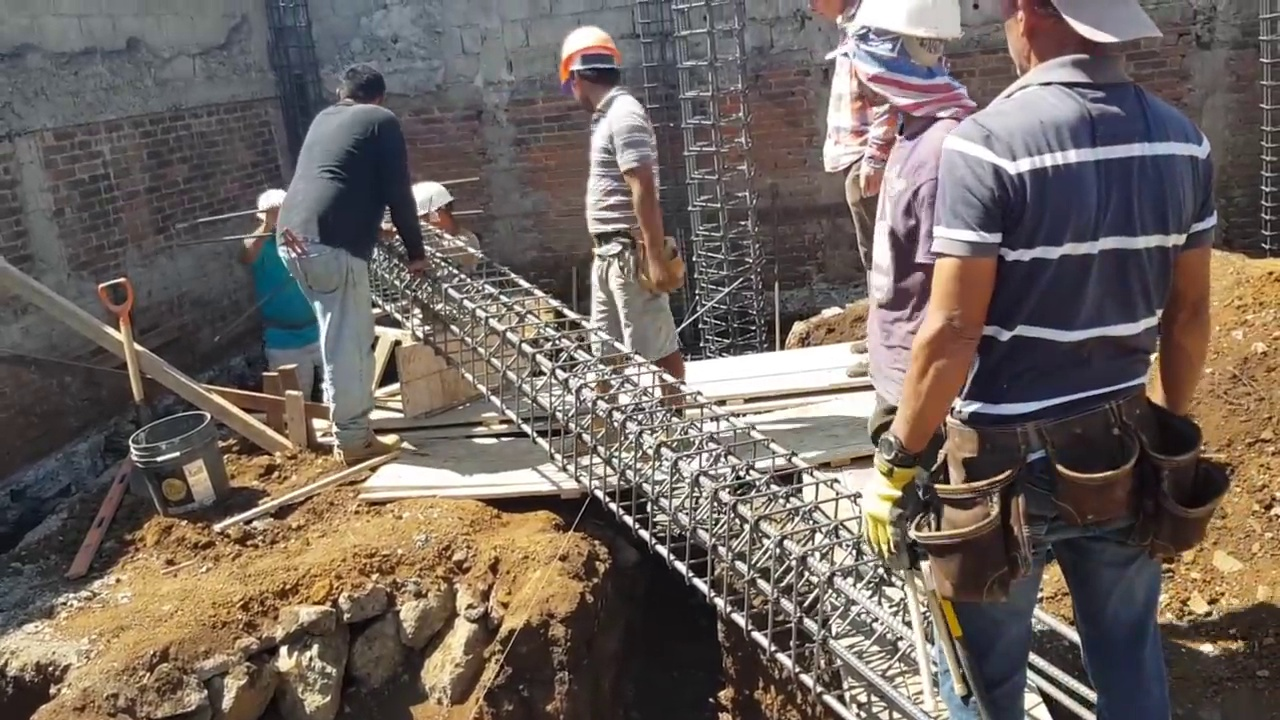helmet: (850, 0, 965, 45), (555, 25, 621, 77), (408, 181, 453, 218), (256, 191, 286, 223)
helmet-off: (998, 0, 1158, 72), (336, 65, 383, 106)
helmet-on: (828, 0, 987, 139), (555, 22, 623, 114), (406, 180, 463, 236), (255, 187, 289, 242)
person: (856, 15, 1219, 720), (826, 1, 991, 566), (261, 60, 424, 454), (554, 22, 684, 400), (242, 181, 329, 400), (403, 175, 486, 274)
